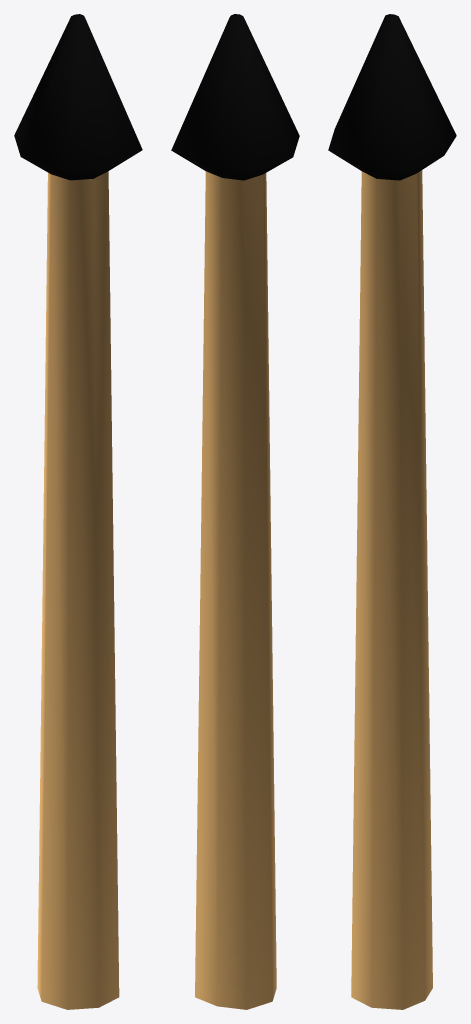
Rendered from arrow.fbx.
3 views of the same model, side by side, from view 1: azimuth 30°, elevation 25°; view 2: azimuth 150°, elevation 25°; view 3: azimuth 330°, elevation 25° (orthographic).
Parts seen in each view (by area): view 1: Cube; view 2: Cube; view 3: Cube.
Boxes of the visible parts, bbox=[...] form: Cube: bbox=[14, 14, 142, 1009]; Cube: bbox=[171, 14, 299, 1009]; Cube: bbox=[328, 14, 456, 1009].
Bounding box in the file's own units: 14.02 × 119 × 13.68.
